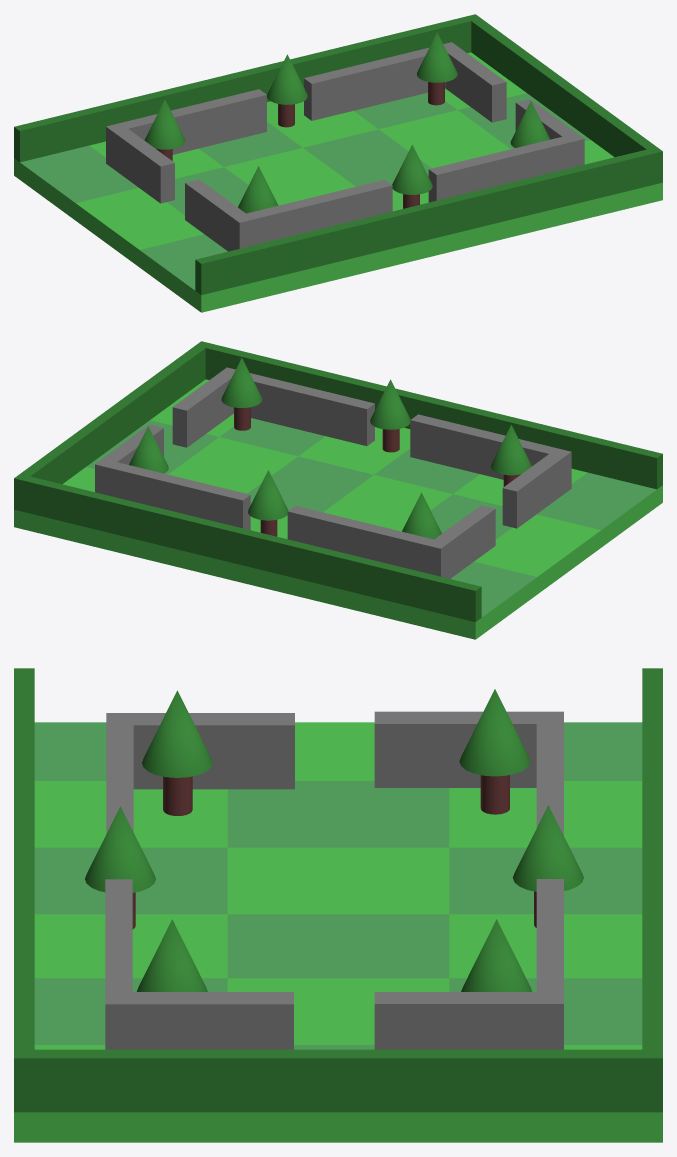
File: tree3.fbx
3 views of the same model, one above another, from view 1: azimuth 30°, elevation 25°; view 2: azimuth 150°, elevation 25°; view 3: azimuth 270°, elevation 25° (orthographic). The views are drawn at different scales.
Visible parts, largest first — view 1: pasted__pasted__pCube7, pasted__pasted__pCube11 (×3), pasted__pCube11, pasted__pasted__pCone2 (×2), pasted__pCone2 (×2), pasted__pasted__pasted__pCone2, pCone2; view 2: pasted__pasted__pCube7, pasted__pasted__pCube11 (×3), pasted__pCube11, pasted__pCone2 (×2), pasted__pasted__pCone2 (×2), pCone2, pasted__pasted__pasted__pCone2; view 3: pasted__pasted__pCube7, pasted__pasted__pCube11 (×3), pasted__pCube11, pasted__pasted__pCone2 (×2), pasted__pCone2 (×2), pCone2, pasted__pasted__pasted__pCone2.
Boxes of the visible parts, x1,y1,x2,y2 form: pasted__pasted__pCube7: (14, 14, 662, 312); pasted__pasted__pCube11 (×3): (185, 42, 584, 251); pasted__pCube11: (106, 89, 266, 203); pasted__pasted__pCone2 (×2): (144, 32, 457, 160); pasted__pCone2 (×2): (238, 101, 550, 213); pasted__pasted__pasted__pCone2: (267, 54, 307, 127); pCone2: (392, 144, 432, 208); pasted__pasted__pCube7: (14, 341, 662, 639); pasted__pasted__pCube11 (×3): (95, 367, 571, 530); pasted__pCube11: (287, 505, 495, 578); pasted__pCone2 (×2): (221, 358, 531, 486); pasted__pasted__pCone2 (×2): (129, 426, 441, 539); pCone2: (370, 379, 410, 452); pasted__pasted__pasted__pCone2: (248, 470, 288, 536); pasted__pasted__pCube7: (14, 668, 662, 1142); pasted__pasted__pCube11 (×3): (105, 713, 563, 1049); pasted__pCube11: (374, 711, 563, 835); pasted__pasted__pCone2 (×2): (459, 689, 532, 991); pasted__pCone2 (×2): (137, 690, 212, 991); pCone2: (85, 806, 155, 929); pasted__pasted__pasted__pCone2: (513, 805, 583, 927).
Size of the model in its own units: 22.4 by 4.04 by 15.75.
